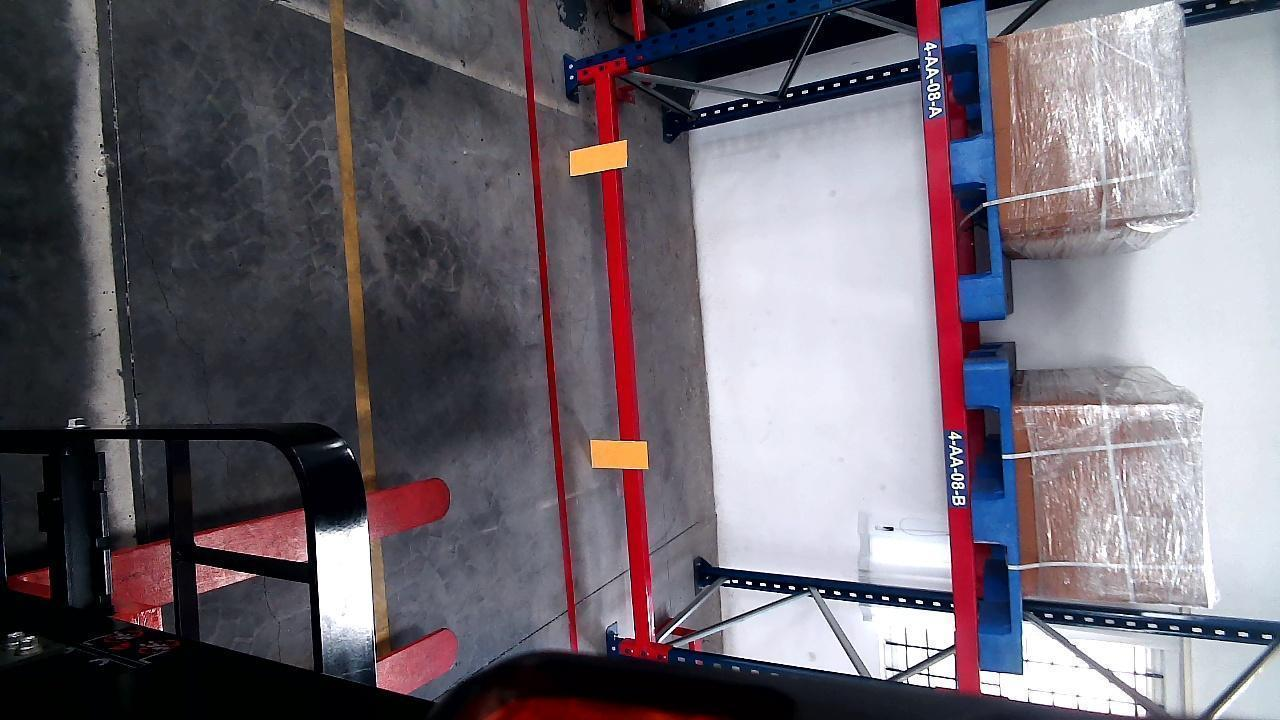red_line: (523, 0, 583, 667)
yellow_line: (323, 0, 379, 465)
